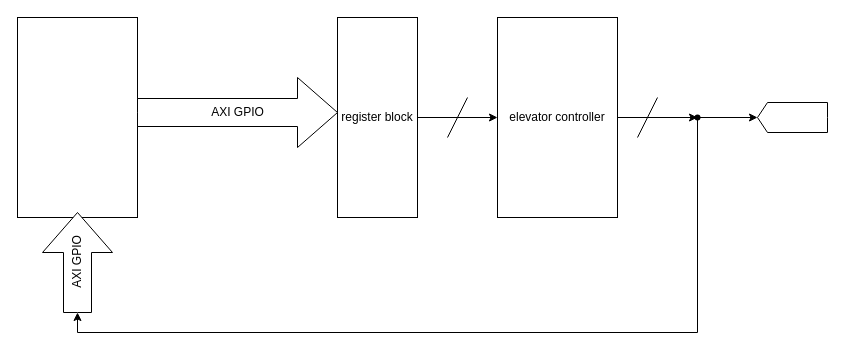
This 845x358 diagram has some shape labels left out. Each missing label, with the centre of its shape:
"LED" belongs at pixel 792 117.
"ZYNQ" belongs at pixel 77 117.
